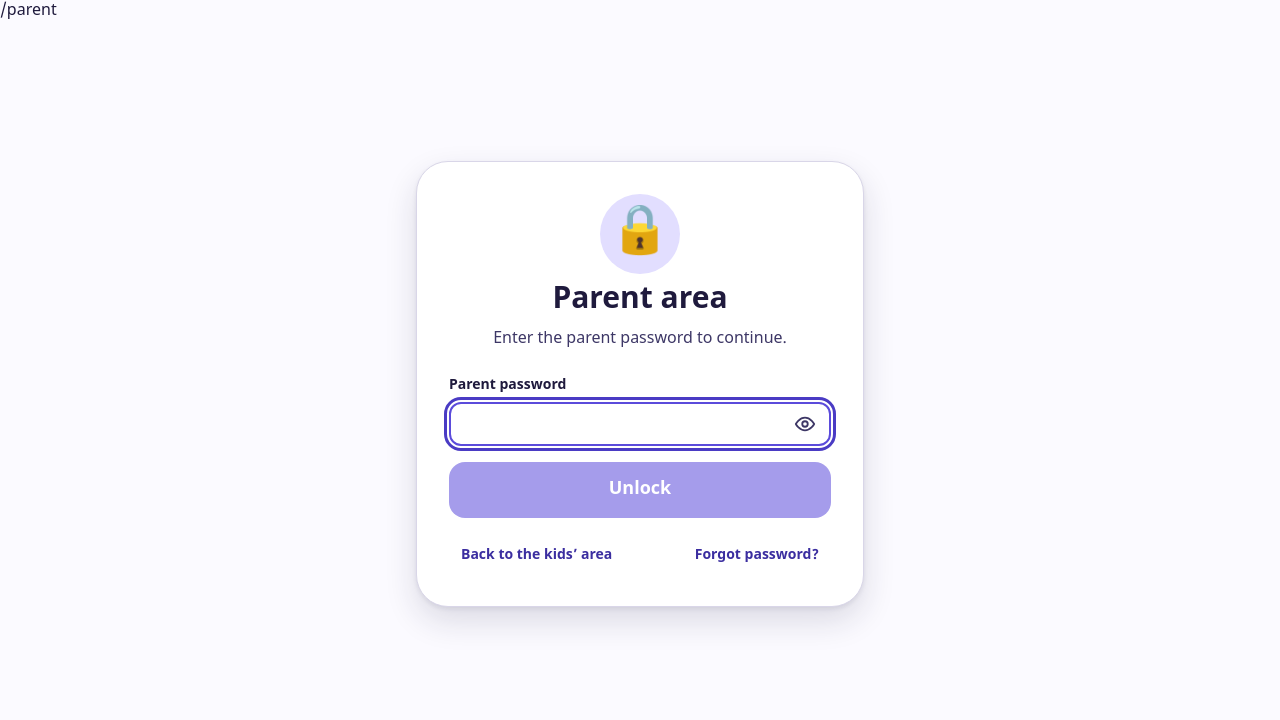
parent gate › "Forgot password?" deletes nothing: it only starts a 24-hour wait
Expected: the heading "Parent area" is shown, [552,282,728,320]
Click the button "Forgot password?": (757, 556) [683,538,831,574]
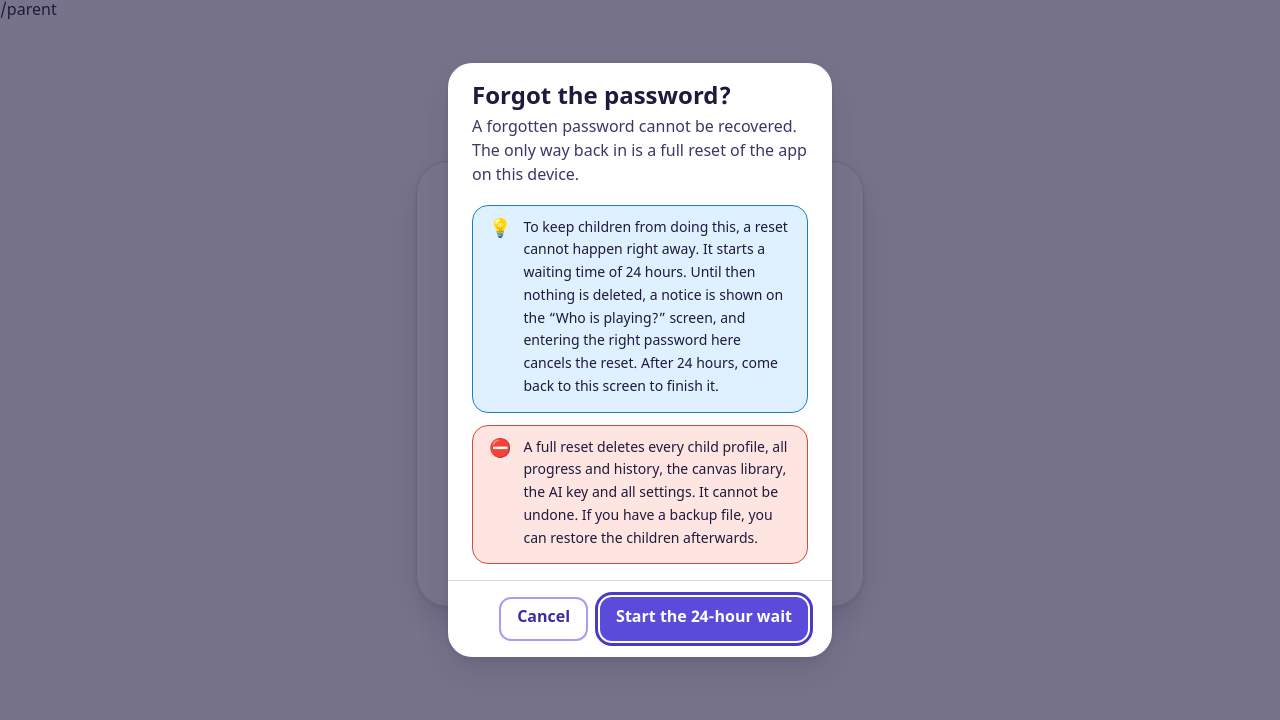
Result: the text "A forgotten password cannot be recovered" is shown at [472,118,807,187]
Result: the text "deletes every child profile" is shown at [524,439,788,549]
Result: the text "waiting time of 24 hours" is shown at [524,219,788,397]
Click the button "Start the 24-hour wait": (704, 619) [600,597,808,641]
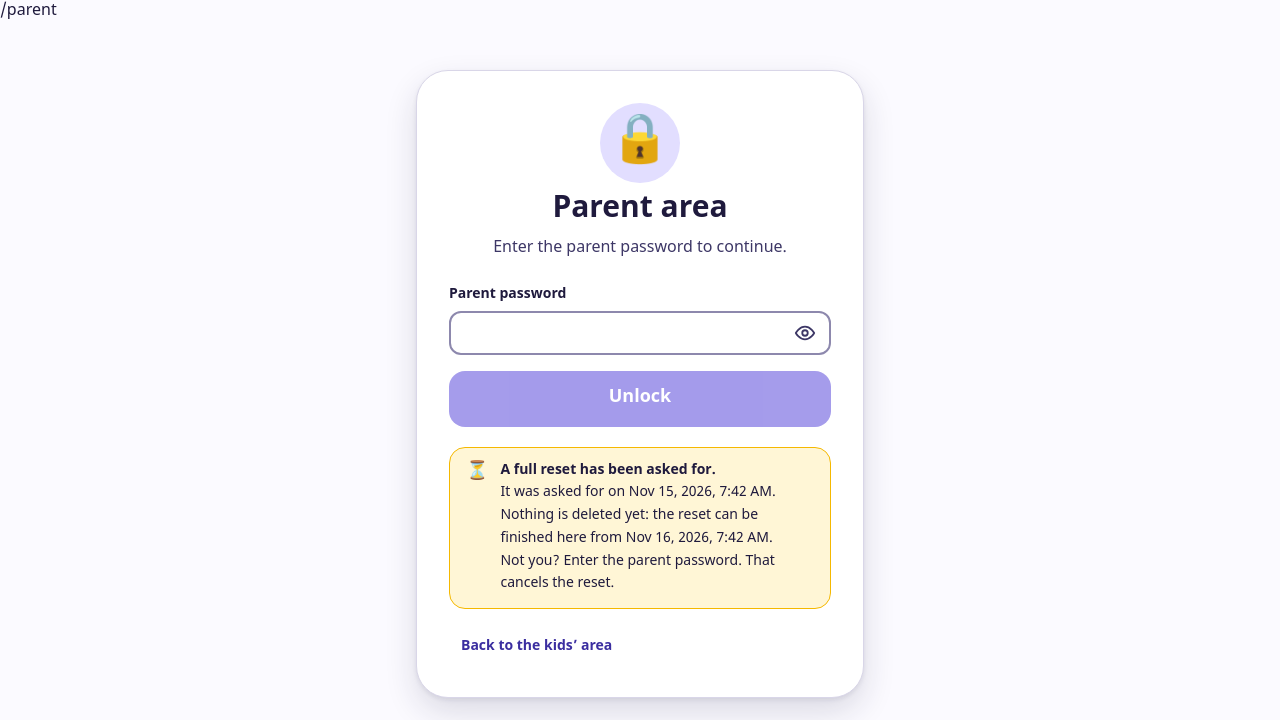
Result: the text "A full reset has been asked for." is shown at [500,460,716,480]
Result: the text "Not you? Enter the parent password. That cancels the reset." is shown at [500,550,814,596]
Result: the button "Forgot password?" is gone
